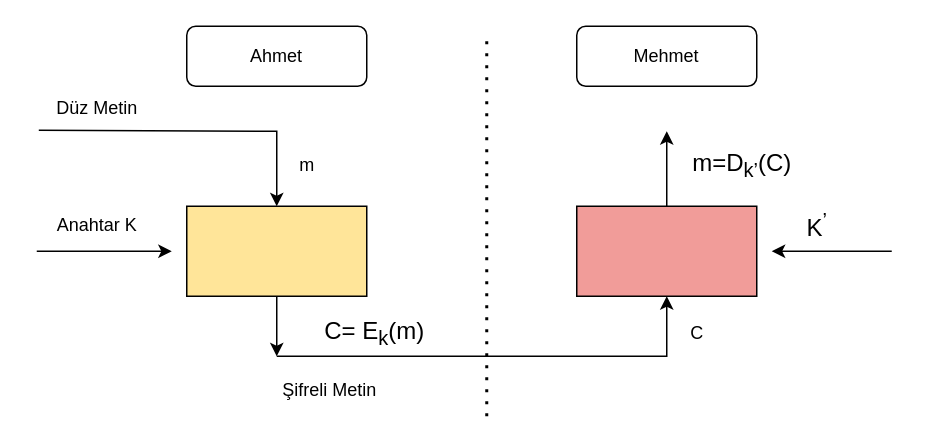
The diagram is 930 pixels wide and 446 high, and some of its shapes have lost their labels. The centre of each missing label's shape, as x and y in pixels:
"DesCryption" belongs at pixel 666 250.
"EnCrpytion" belongs at pixel 276 250.
